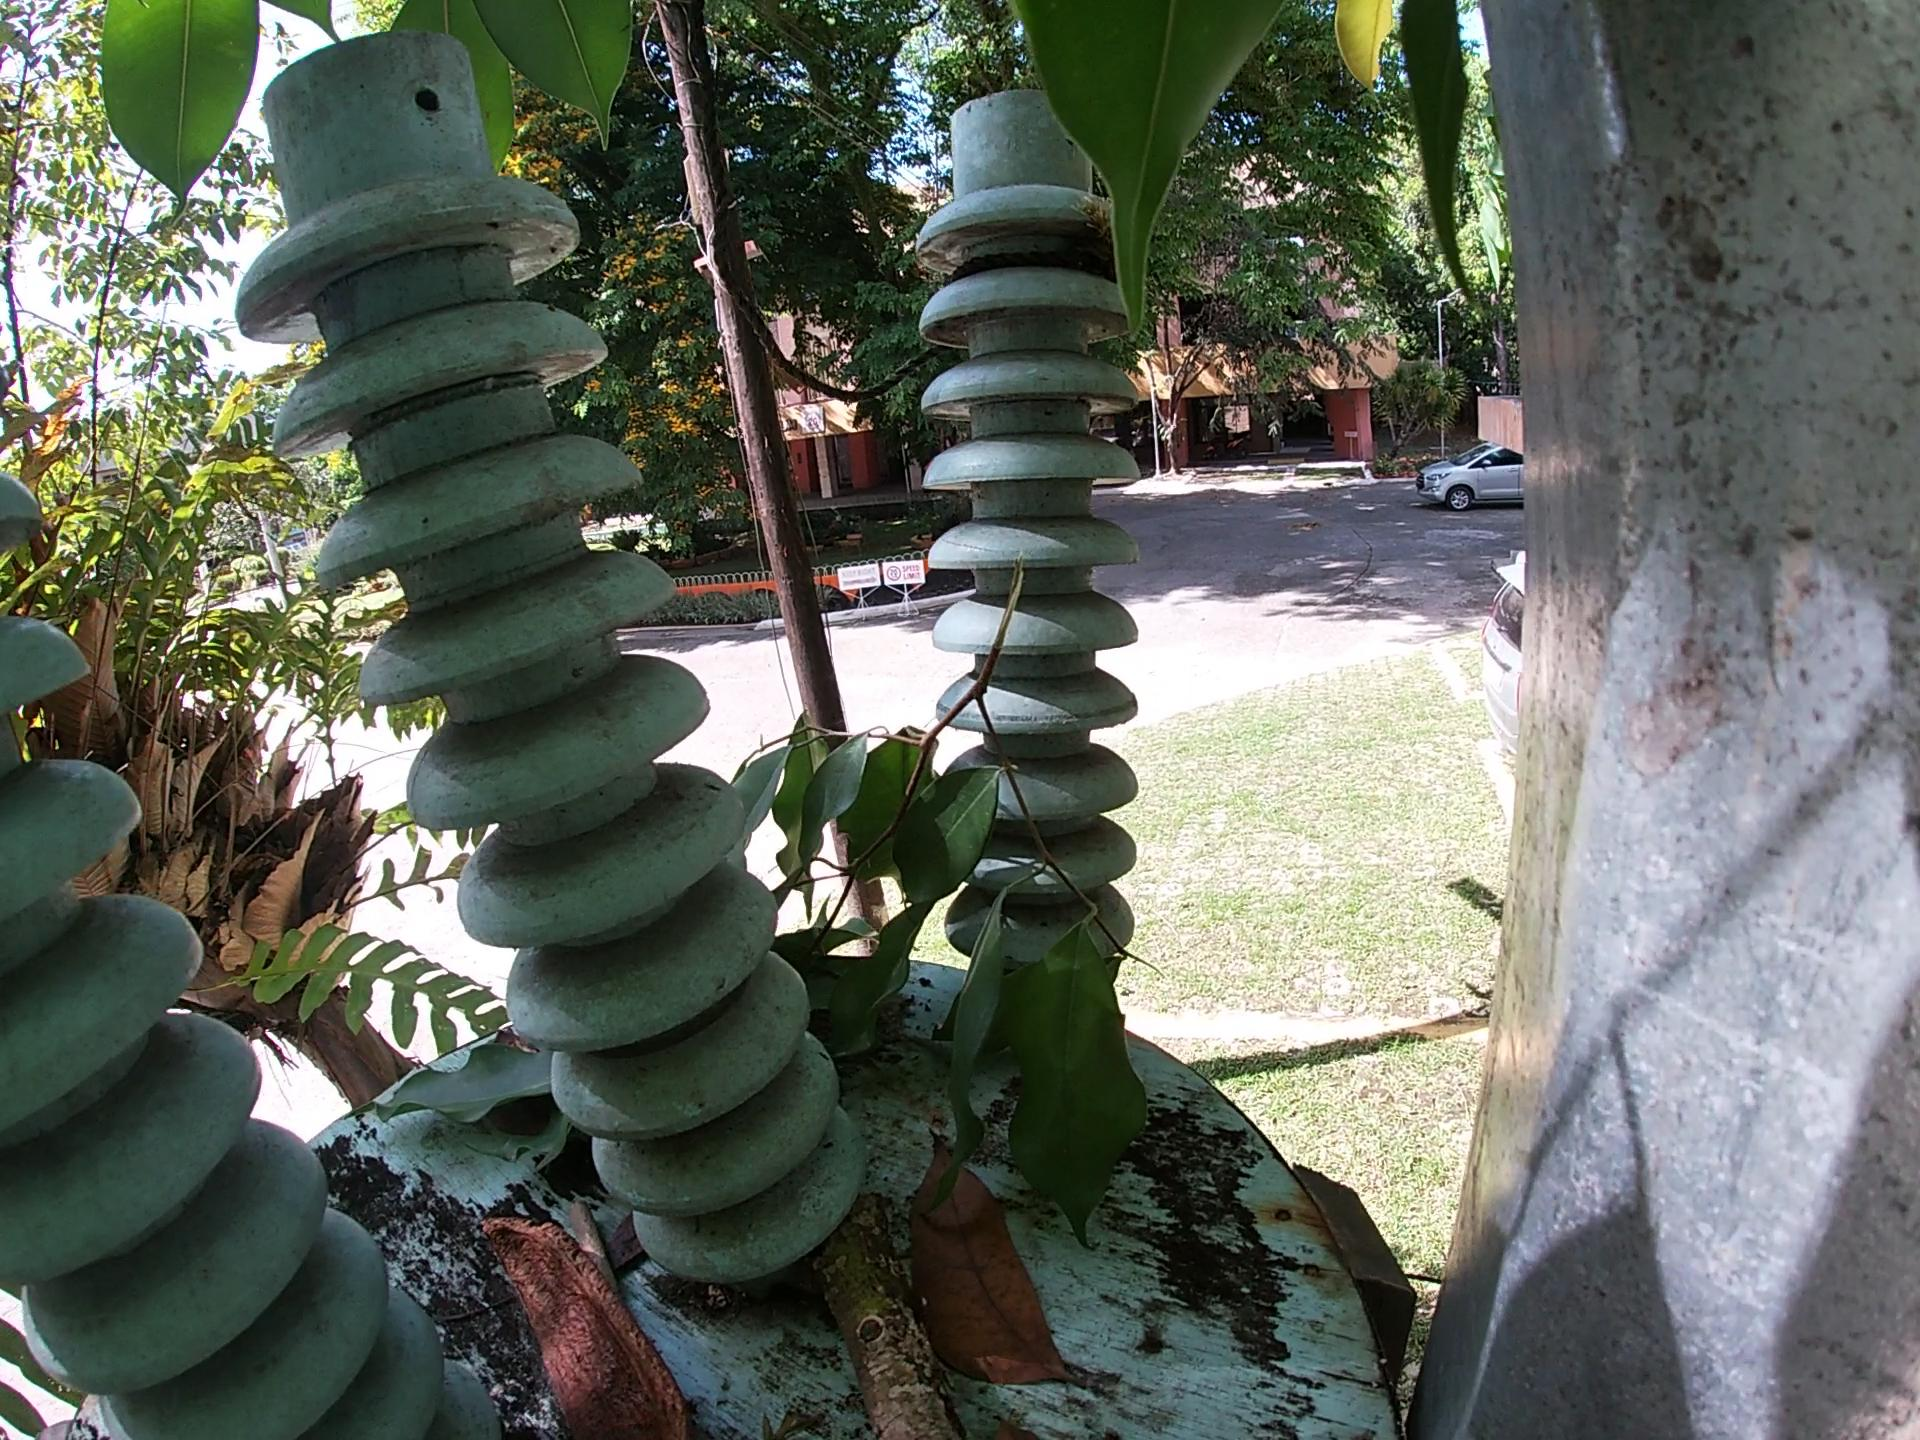branch with leaves: (671, 498, 1141, 1258)
leaf: (903, 1130, 1110, 1390), (333, 1029, 618, 1187)
mahogany fruit: (475, 1201, 729, 1440)
tree branch: (810, 1265, 977, 1440), (556, 1193, 630, 1296)
